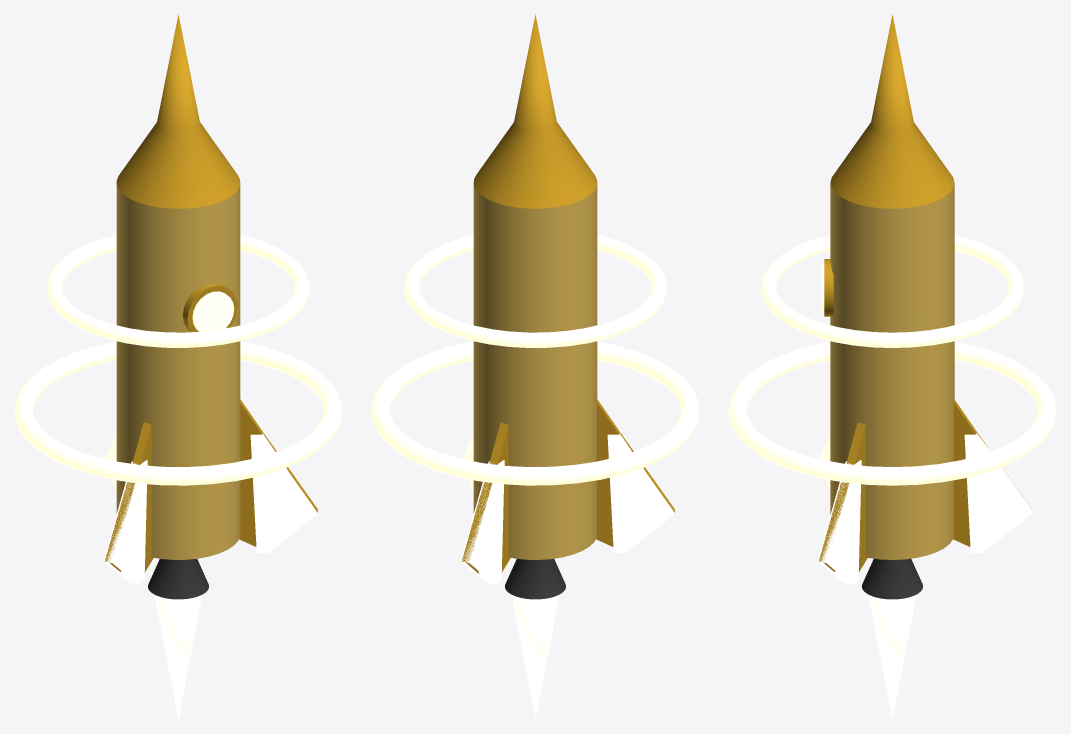
Rendered from Rocket_30_AureateHalo.fbx.
The picture shows the model from 3 angles, left to right: view 1: azimuth 30°, elevation 25°; view 2: azimuth 150°, elevation 25°; view 3: azimuth 270°, elevation 25°; orthographic projection.
Visible parts, largest first — view 1: R30_Body, R30_Halo_1, R30_Nose, R30_Halo_2, R30_FinGlow_3, R30_FinGlow_2, R30_Flame_1, R30_Nozzle_1, R30_Fin_3, R30_Fin_2, R30_Window_1, R30_WindowFrame_1; view 2: R30_Body, R30_Halo_1, R30_Nose, R30_Halo_2, R30_FinGlow_2, R30_Flame_1, R30_FinGlow_1, R30_Nozzle_1, R30_Fin_2, R30_Fin_1; view 3: R30_Body, R30_Halo_1, R30_Nose, R30_Halo_2, R30_FinGlow_1, R30_FinGlow_3, R30_Flame_1, R30_Nozzle_1, R30_Fin_1, R30_Fin_3, R30_WindowFrame_1.
Part boxes in pixels (x1,y1,x2,y2): R30_Body: (116, 184, 240, 559); R30_Halo_1: (14, 341, 342, 485); R30_Nose: (116, 14, 240, 208); R30_Halo_2: (47, 234, 309, 347); R30_FinGlow_3: (250, 430, 317, 553); R30_FinGlow_2: (103, 460, 147, 584); R30_Flame_1: (154, 594, 202, 719); R30_Nozzle_1: (148, 559, 208, 599); R30_Fin_3: (239, 399, 317, 546); R30_Fin_2: (105, 422, 153, 572); R30_Window_1: (192, 291, 234, 331); R30_WindowFrame_1: (182, 283, 237, 332); R30_Body: (473, 184, 597, 559); R30_Halo_1: (371, 341, 699, 485); R30_Nose: (473, 14, 597, 208); R30_Halo_2: (404, 234, 666, 347); R30_FinGlow_2: (607, 430, 674, 553); R30_Flame_1: (511, 594, 559, 719); R30_FinGlow_1: (460, 460, 504, 584); R30_Nozzle_1: (505, 559, 565, 599); R30_Fin_2: (596, 399, 674, 546); R30_Fin_1: (462, 422, 510, 573); R30_Body: (830, 183, 954, 559); R30_Halo_1: (728, 341, 1056, 485); R30_Nose: (830, 14, 954, 208); R30_Halo_2: (760, 235, 1024, 347); R30_FinGlow_1: (964, 430, 1031, 553); R30_FinGlow_3: (817, 460, 861, 584); R30_Flame_1: (868, 594, 916, 719); R30_Nozzle_1: (862, 558, 922, 599); R30_Fin_1: (953, 400, 1031, 546); R30_Fin_3: (819, 422, 867, 572); R30_WindowFrame_1: (824, 259, 833, 316).
Size of the model in its own units: 4.24 by 10.05 by 4.24.
